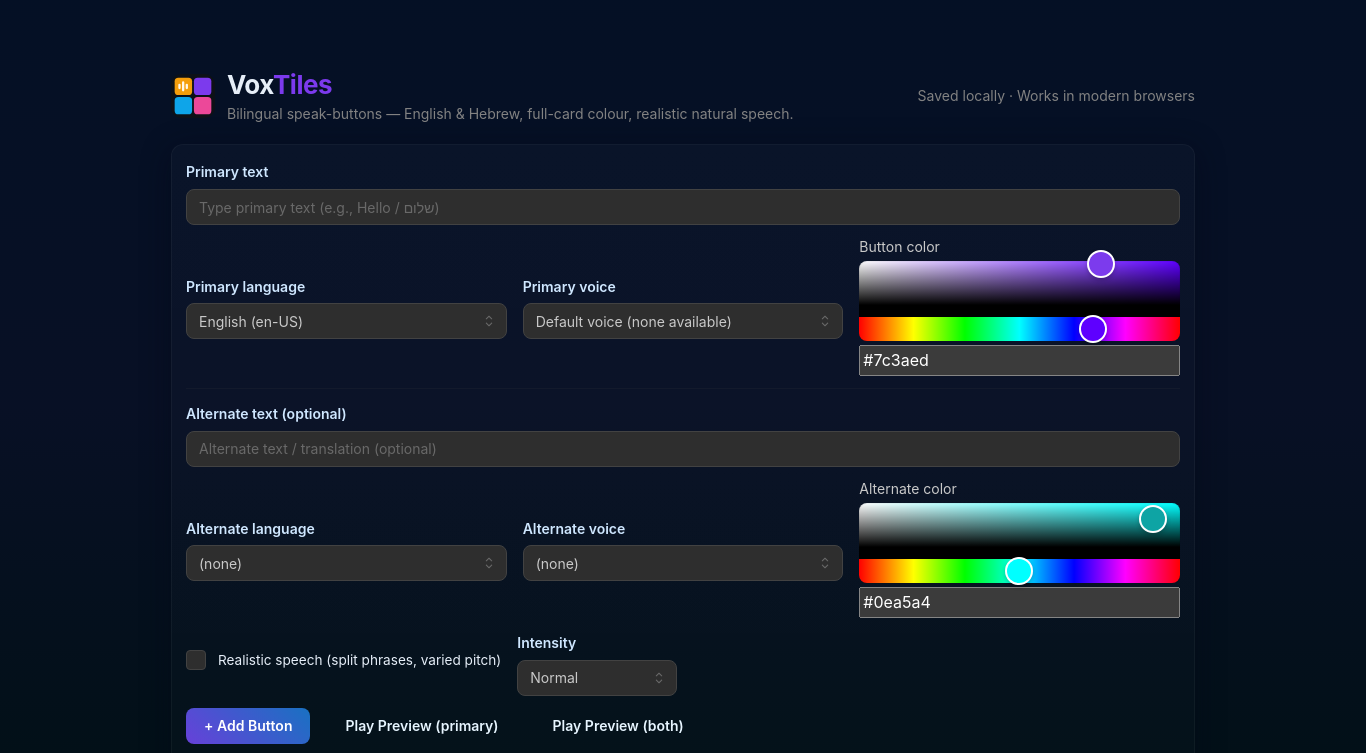
Scenario: App integration › button count updates correctly
Type "One" into the field labelled "Primary text". click: (683, 207)
box: [186, 189, 1180, 225]
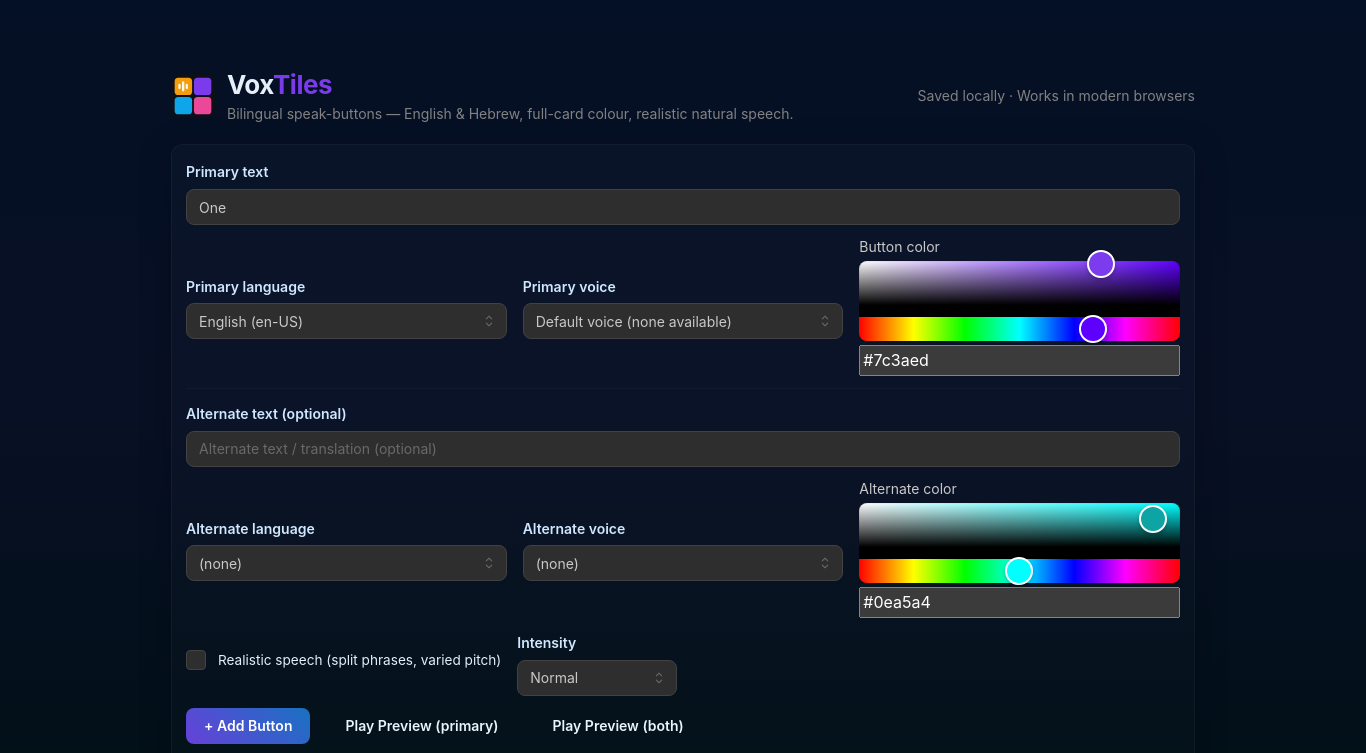
Click the button "+ Add Button". click: (248, 726)
box: [186, 708, 310, 744]
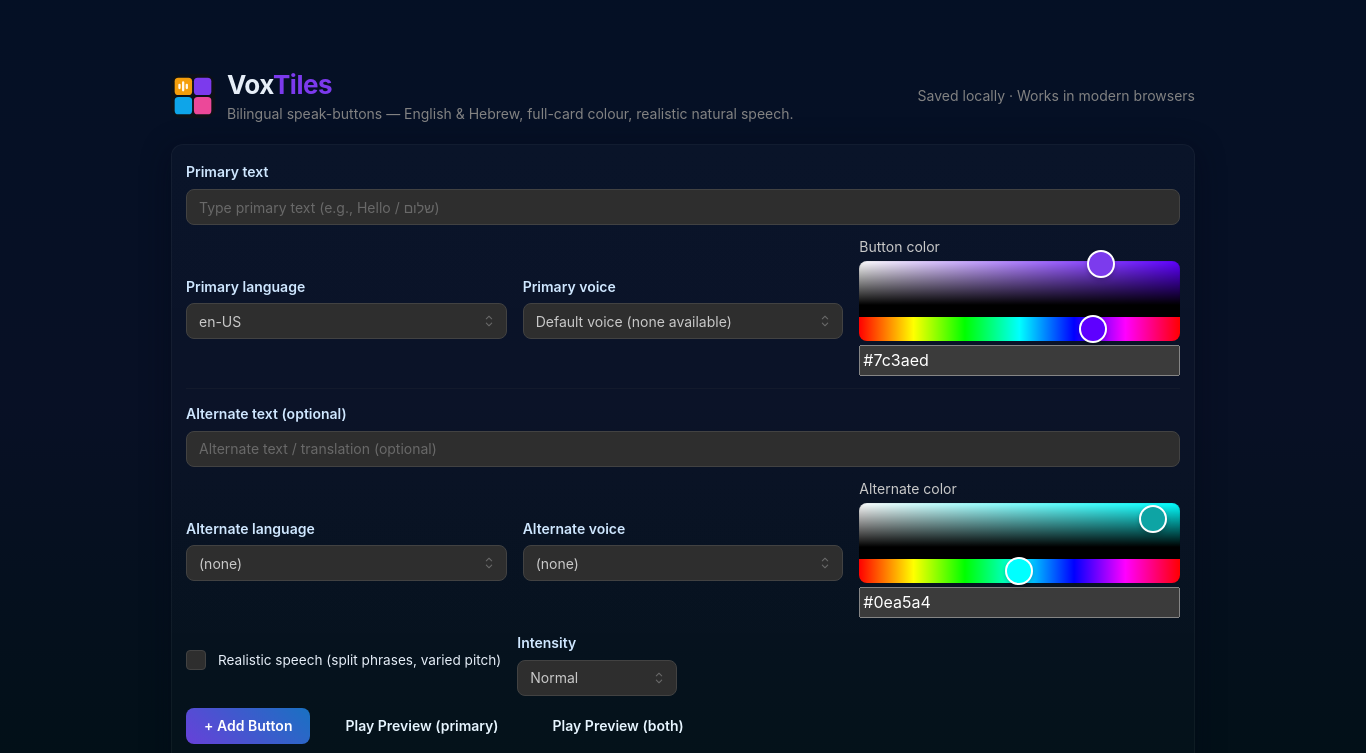
Type "Two" into the field labelled "Primary text". click: (683, 207)
box: [186, 189, 1180, 225]
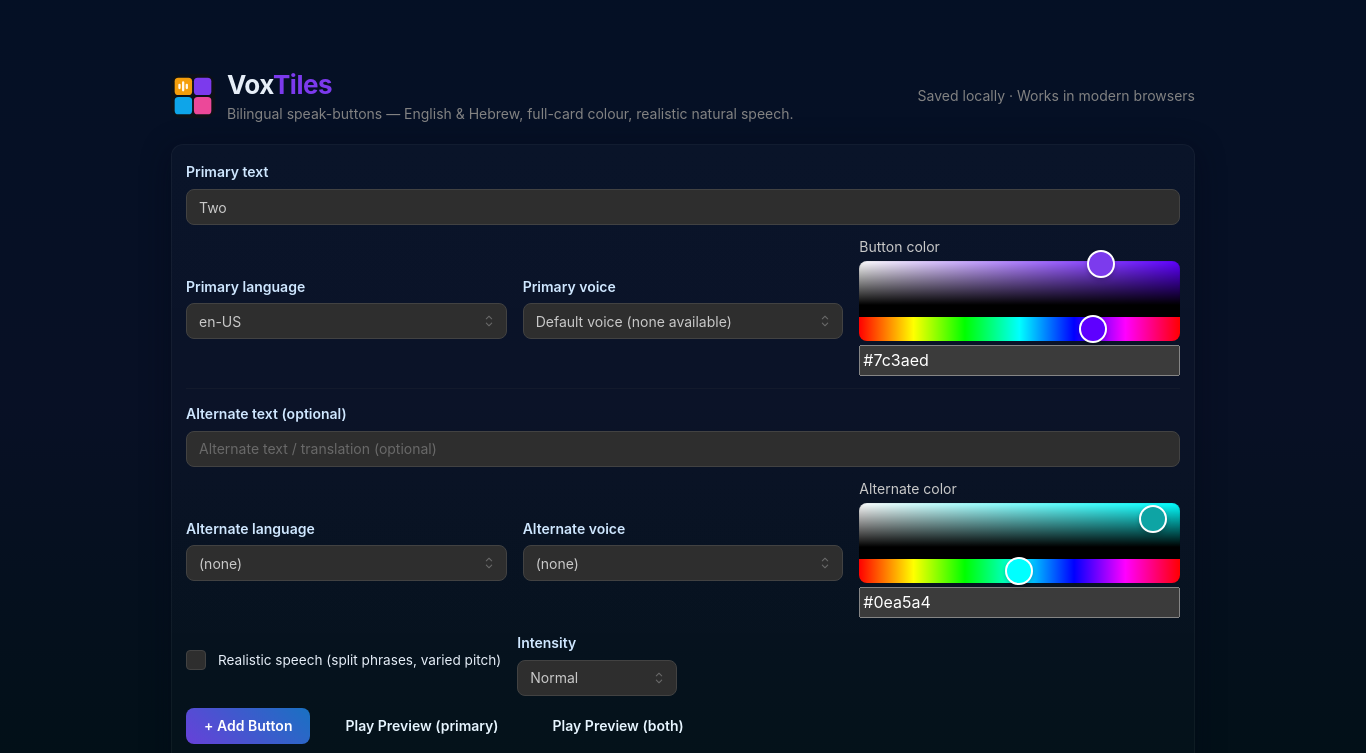
Click the button "+ Add Button". click: (248, 726)
box: [186, 708, 310, 744]
(page scrolled)
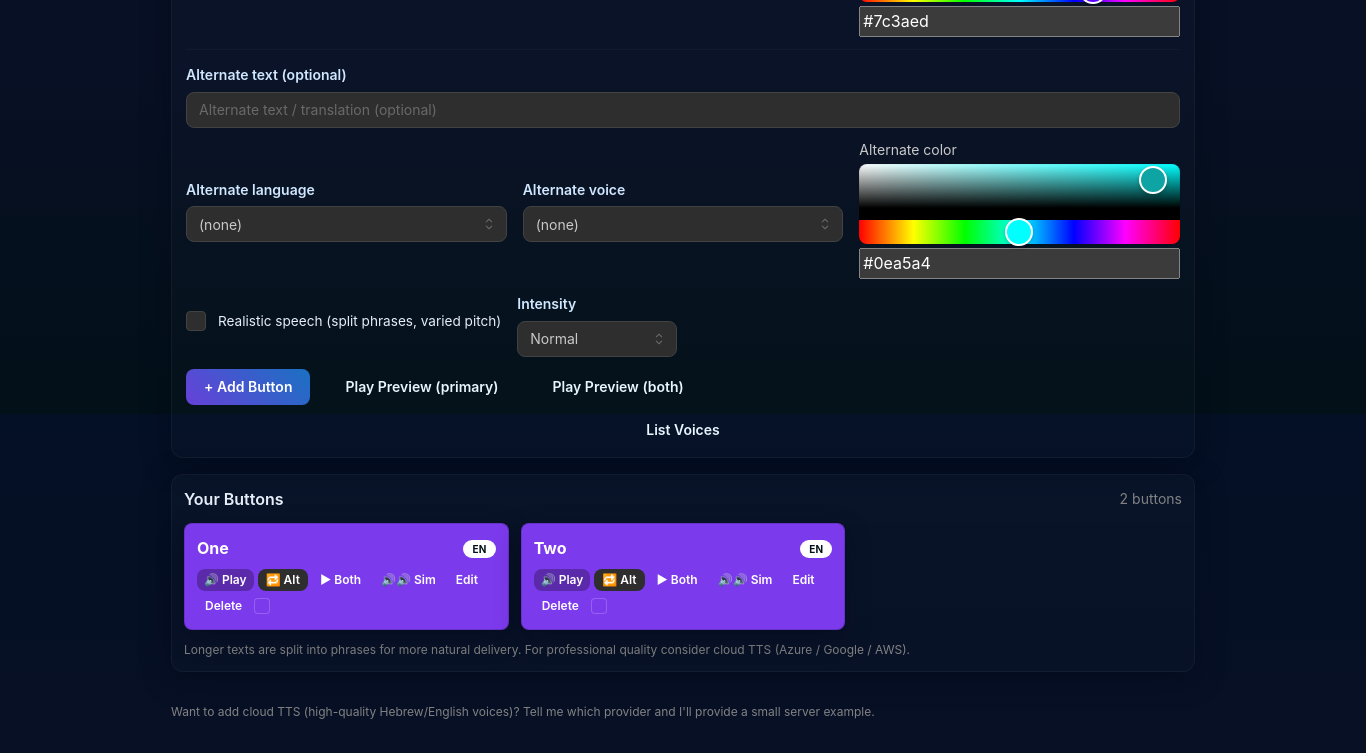
Now the text "2 buttons" is shown, box [1120, 489, 1182, 509]
